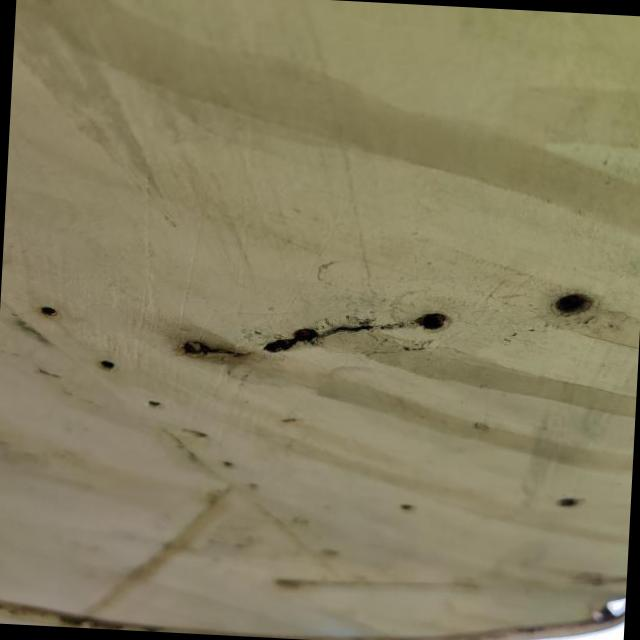Crack: (263, 313, 450, 353), (181, 340, 246, 356)
